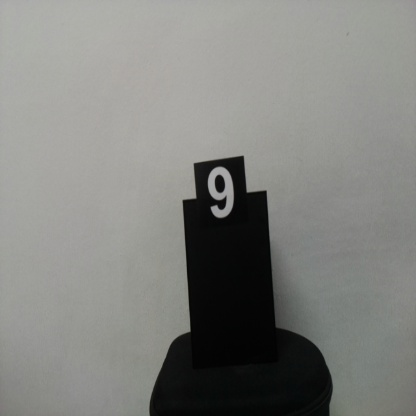id_9: (195, 164, 247, 238)
